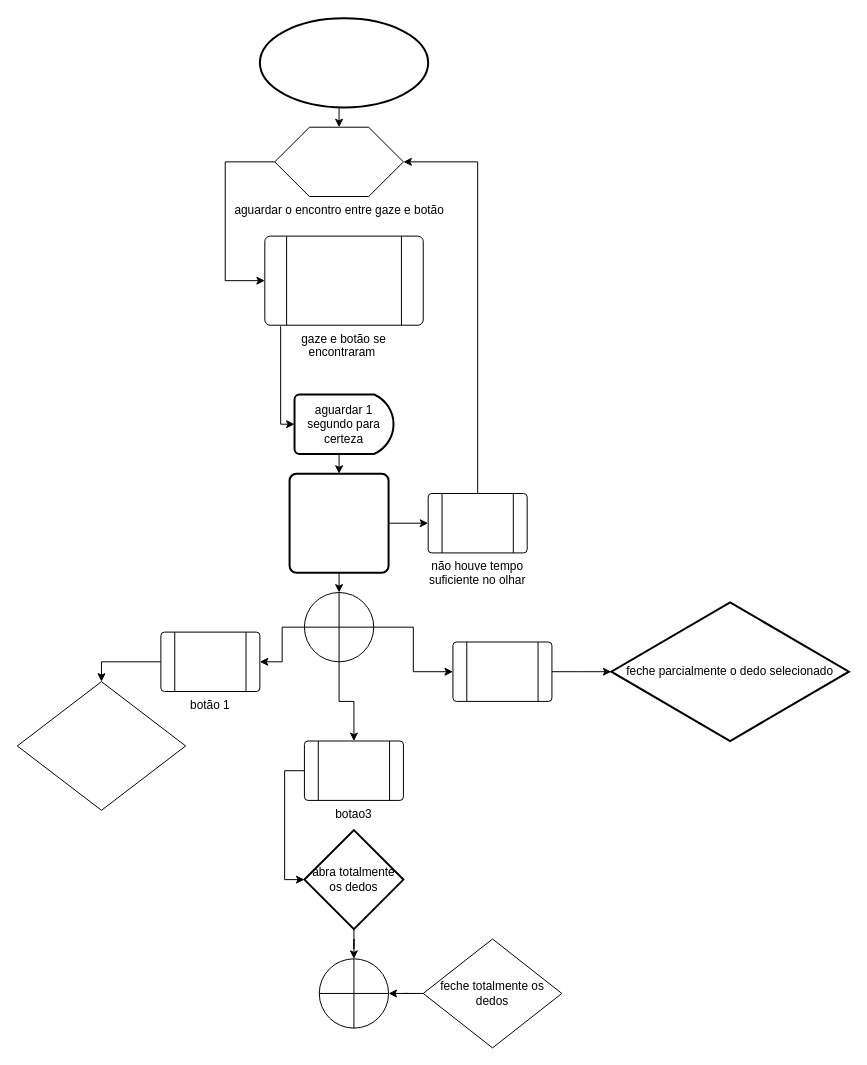
The diagram is 867 pixels wide and 1065 high, and some of its shapes have lost their labels. The centre of each missing label's shape, as x and y in pixels:
"botão 2" belongs at pixel 502 671.
"conexão entre mão e sensor de gaze feio" belongs at pixel 343 62.
"feche totalmente o dedo selecionado" belongs at pixel 101 745.
"se o botão escolhido for" belongs at pixel 338 522.
